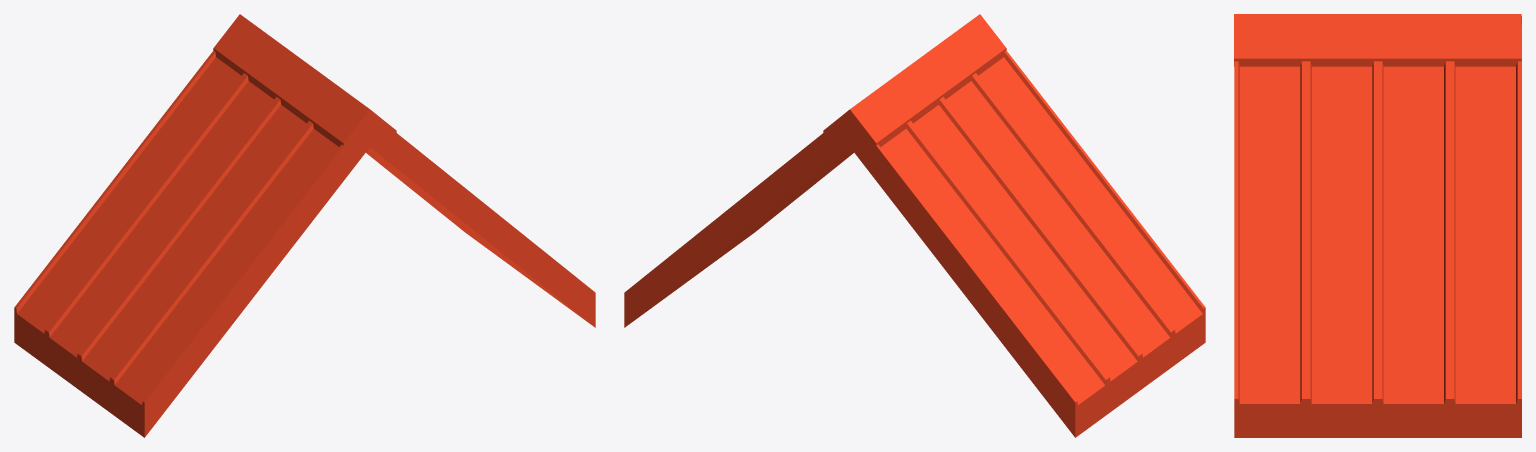
Rendered from roof-metal-regular-2x2m-center.fbx.
The picture shows the model from 3 angles, left to right: view 1: azimuth 30°, elevation 25°; view 2: azimuth 150°, elevation 25°; view 3: azimuth 270°, elevation 25°; orthographic projection. The views are drawn at different scales.
Parts seen in each view (by area): view 1: roof-metal-regular-2x2m-center; view 2: roof-metal-regular-2x2m-center; view 3: roof-metal-regular-2x2m-center.
Part boxes in pixels (bbox=[...]): roof-metal-regular-2x2m-center: bbox=[14, 14, 595, 437]; roof-metal-regular-2x2m-center: bbox=[624, 14, 1205, 437]; roof-metal-regular-2x2m-center: bbox=[1234, 14, 1521, 437].
Bounding box in the file's own units: 4 × 2.32 × 2.
